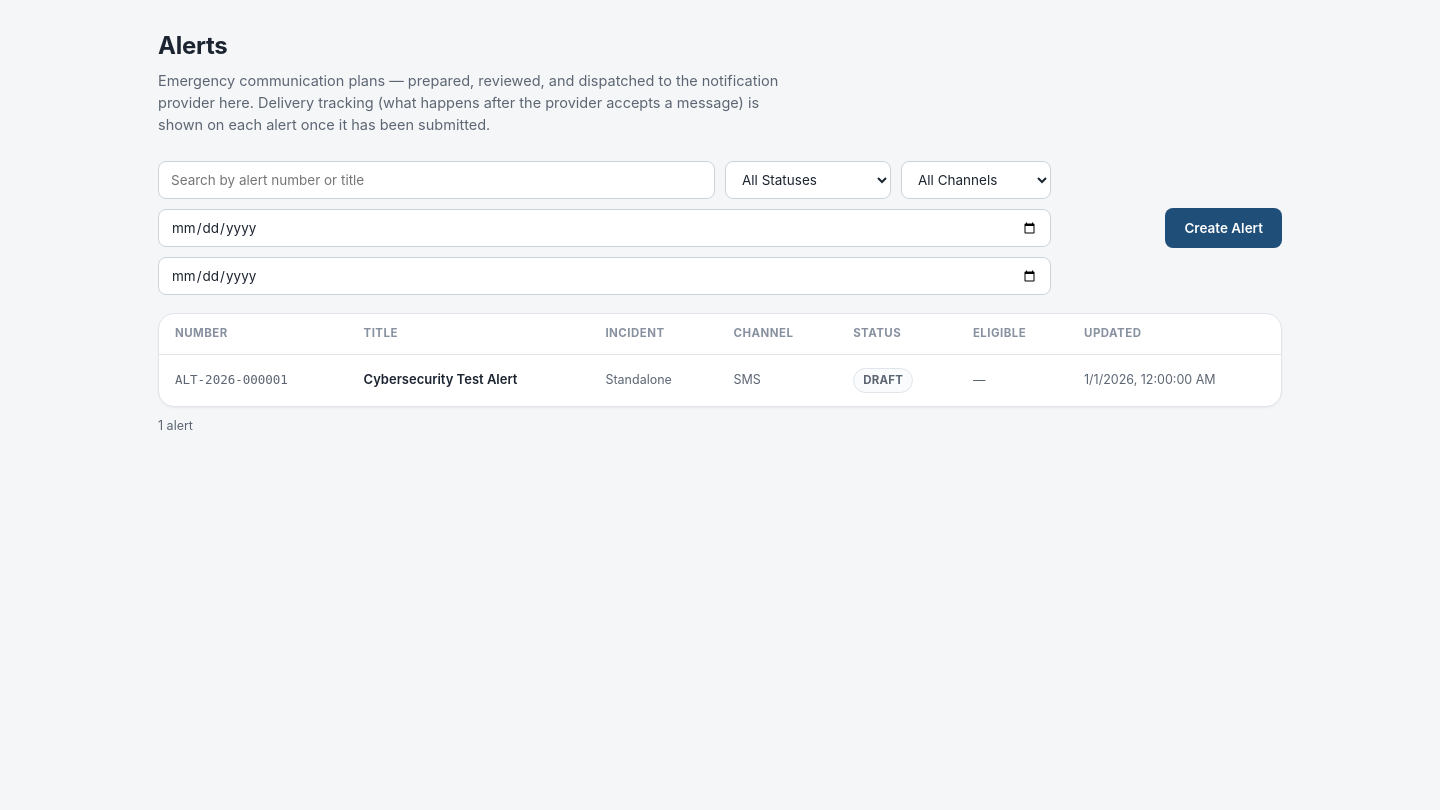
Scenario: AlertsPage › shows a Complete delivery badge only once every submitted recipient has reached delivered
Click the text "Cybersecurity Test Alert".
click(468, 380)  # box [348,354,589,406]
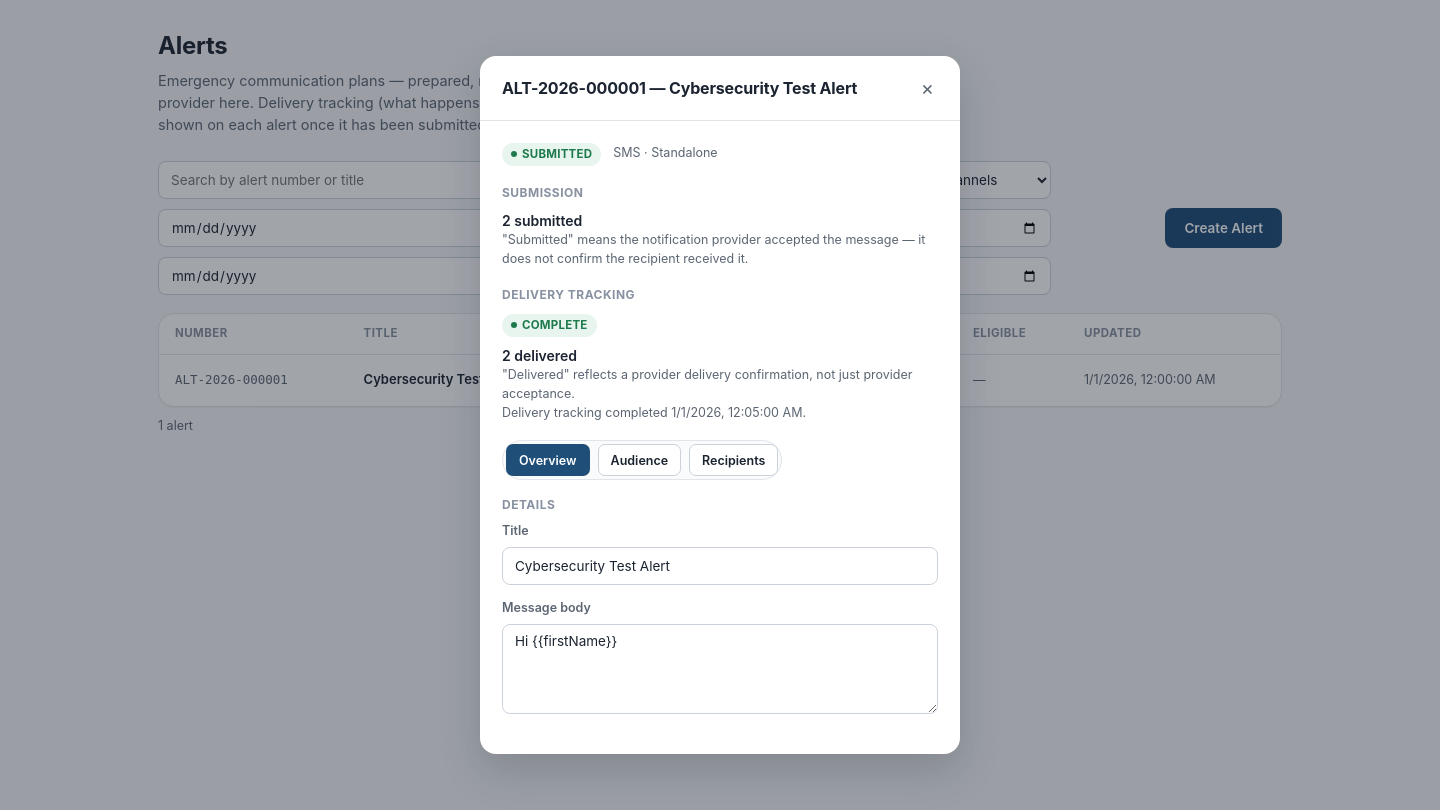
Check: the text "Complete" is shown, box [502,314,596,337]
Check: the text "2 delivered" is shown, box [502,347,577,364]
